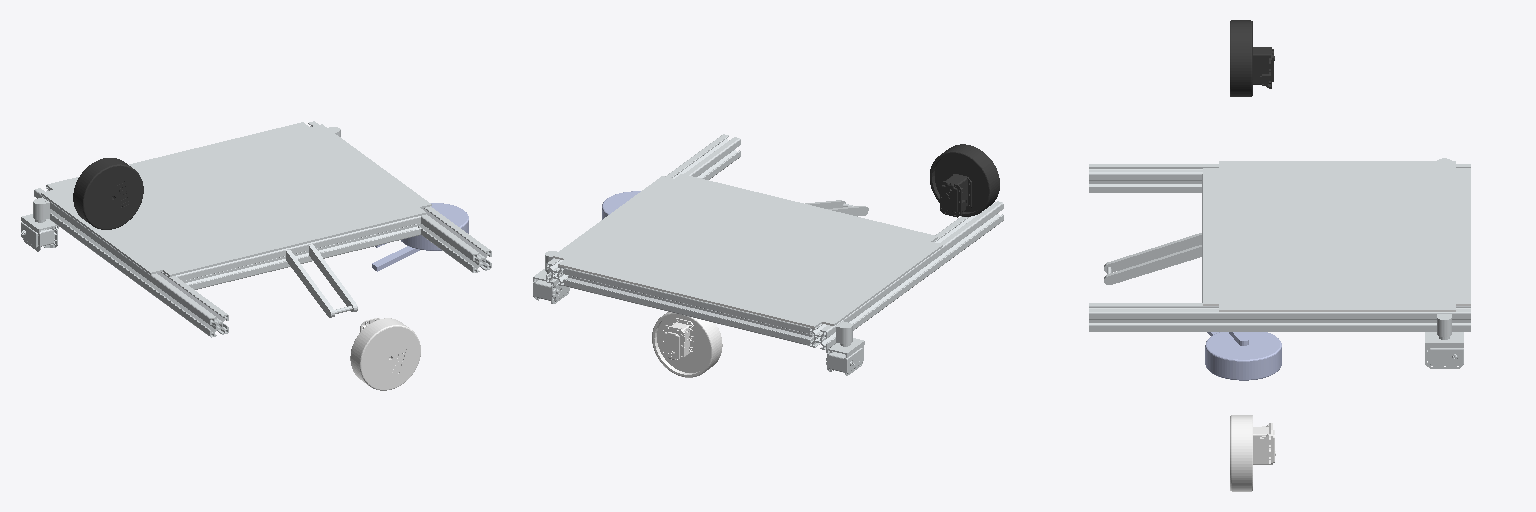
robot.urdf — Twowh:
<?xml version="1.0" encoding="utf-8"?>
<!-- This URDF was automatically created by SolidWorks to URDF Exporter! Originally created by [author] ([email redacted]) 
     Commit Version: 1.5.1-0-g916b5db  Build Version: 1.5.7152.31018
     For more information, please see http://wiki.ros.org/sw_urdf_exporter -->
<robot
  name="Twowh">
  <link
    name="base_link">
    <inertial>
      <origin
        xyz="0.128048360692752 0.343596386681778 0.0901283795092337"
        rpy="0 0 0" />
      <mass
        value="0.573840000000001" />
      <inertia
        ixx="0.00576017238000001"
        ixy="9.82289890103124E-18"
        ixz="-2.17978635019974E-18"
        iyy="0.015701046"
        iyz="-4.58064054923378E-21"
        izz="0.00994173438000003" />
    </inertial>
    <visual>
      <origin
        xyz="0 0 0"
        rpy="0 0 0" />
      <geometry>
        <mesh
          filename="package://Twowh/meshes/base_link.STL" />
      </geometry>
      <material
        name="">
        <color
          rgba="1 1 1 0.3" />
      </material>
    </visual>
    <collision>
      <origin
        xyz="0 0 0"
        rpy="0 0 0" />
      <geometry>
        <mesh
          filename="package://Twowh/meshes/base_link.STL" />
      </geometry>
    </collision>
  </link>
  <link
    name="Body">
    <inertial>
      <origin
        xyz="0.21508 0.00243 -0.2779"
        rpy="0 0 0" />
      <mass
        value="2.263" />
      <inertia
        ixx="0.023609"
        ixy="3.2969E-08"
        ixz="-1.5185E-18"
        iyy="0.042498"
        iyz="1.2741E-05"
        izz="0.01919" />
    </inertial>
    <visual>
      <origin
        xyz="0 0 0"
        rpy="0 0 0" />
      <geometry>
        <mesh
          filename="package://Twowh/meshes/Body.STL" />
      </geometry>
      <material
        name="">
        <color
          rgba="0.89804 0.91765 0.92941 1" />
      </material>
    </visual>
    <collision>
      <origin
        xyz="0 0 0"
        rpy="0 0 0" />
      <geometry>
        <mesh
          filename="package://Twowh/meshes/Body.STL" />
      </geometry>
    </collision>
  </link>
  <joint
    name="Fix"
    type="fixed">
    <origin
      xyz="-0.087202 -0.39013 0.3271"
      rpy="1.5708 0 0" />
    <parent
      link="base_link" />
    <child
      link="Body" />
    <axis
      xyz="0 0 0" />
  </joint>
  <link
    name="Front_wheel">
    <inertial>
      <origin
        xyz="0.022014 0.0019731 0.11577"
        rpy="0 0 0" />
      <mass
        value="0.26479" />
      <inertia
        ixx="0.00034075"
        ixy="5.0752E-08"
        ixz="-2.7225E-08"
        iyy="0.00021306"
        iyz="1.2729E-05"
        izz="0.00018091" />
    </inertial>
    <visual>
      <origin
        xyz="0 0 0"
        rpy="0 0 0" />
      <geometry>
        <mesh
          filename="package://Twowh/meshes/Front_wheel.STL" />
      </geometry>
      <material
        name="">
        <color
          rgba="0.79216 0.81961 0.93333 1" />
      </material>
    </visual>
    <collision>
      <origin
        xyz="0 0 0"
        rpy="0 0 0" />
      <geometry>
        <mesh
          filename="package://Twowh/meshes/Front_wheel.STL" />
      </geometry>
    </collision>
  </link>
  <joint
    name="F_join"
    type="revolute">
    <origin
      xyz="0.10691 -0.26713 0.2906"
      rpy="1.5708 0 0" />
    <parent
      link="base_link" />
    <child
      link="Front_wheel" />
    <axis
      xyz="0 1 0" />
    <limit
      lower="0"
      upper="0"
      effort="0"
      velocity="0" />
  </joint>
  <link
    name="L_wheel">
    <inertial>
      <origin
        xyz="1.24582793650796E-05 0.0113047047114155 -0.0364186400276829"
        rpy="0 0 0" />
      <mass
        value="0.234499143777188" />
      <inertia
        ixx="0.000148295988742398"
        ixy="-6.74096165582027E-09"
        ixz="2.98968224739169E-08"
        iyy="0.000143655369595773"
        iyz="1.49218895971985E-07"
        izz="0.000262556797814612" />
    </inertial>
    <visual>
      <origin
        xyz="0 0 0"
        rpy="0 0 0" />
      <geometry>
        <mesh
          filename="package://Twowh/meshes/L_wheel.STL" />
      </geometry>
      <material
        name="">
        <color
          rgba="0.298039215686275 0.298039215686275 0.298039215686275 1" />
      </material>
    </visual>
    <collision>
      <origin
        xyz="0 0 0"
        rpy="0 0 0" />
      <geometry>
        <mesh
          filename="package://Twowh/meshes/L_wheel.STL" />
      </geometry>
    </collision>
  </link>
  <joint
    name="L_joint"
    type="revolute">
    <origin
      xyz="-0.099202 0.050172 0.2903"
      rpy="0 1.5708 0" />
    <parent
      link="base_link" />
    <child
      link="L_wheel" />
    <axis
      xyz="0 1 0" />
    <limit
      lower="0"
      upper="0"
      effort="0"
      velocity="0" />
  </joint>
  <link
    name="R_wheel">
    <inertial>
      <origin
        xyz="0 0 0"
        rpy="0 0 0" />
      <mass
        value="0" />
      <inertia
        ixx="0"
        ixy="0"
        ixz="0"
        iyy="0"
        iyz="0"
        izz="0" />
    </inertial>
    <visual>
      <origin
        xyz="0 0 0"
        rpy="0 0 0" />
      <geometry>
        <mesh
          filename="package://Twowh/meshes/R_wheel.STL" />
      </geometry>
      <material
        name="">
        <color
          rgba="1 1 1 1" />
      </material>
    </visual>
    <collision>
      <origin
        xyz="0 0 0"
        rpy="0 0 0" />
      <geometry>
        <mesh
          filename="package://Twowh/meshes/R_wheel.STL" />
      </geometry>
    </collision>
  </link>
  <joint
    name="R_joint"
    type="revolute">
    <origin
      xyz="0.3548 0.050172 0.2903"
      rpy="3.1416 -1.5708 0" />
    <parent
      link="base_link" />
    <child
      link="R_wheel" />
    <axis
      xyz="0 1 0" />
    <limit
      lower="0"
      upper="0"
      effort="0"
      velocity="0" />
  </joint>
</robot>

--- Render facts (derived) ---
3 views of the same robot in one strip: view 1: azimuth 30°, elevation 25°; view 2: azimuth 150°, elevation 25°; view 3: azimuth 270°, elevation 25° (orthographic).
Robot: Twowh — 5 links, 4 joints (3 revolute, 1 fixed); root link base_link; default pose: all joints at 0.
Links seen in each view (by area): view 1: Body, R_wheel, L_wheel, Front_wheel; view 2: Body, L_wheel, R_wheel, base_link; view 3: Body, Front_wheel, R_wheel, L_wheel, base_link.
Link boxes in pixels (left/top/right/bottom): Body: left=21, top=121, right=491, bottom=337; R_wheel: left=350, top=318, right=420, bottom=390; L_wheel: left=73, top=158, right=143, bottom=229; Front_wheel: left=372, top=203, right=468, bottom=271; Body: left=533, top=134, right=1003, bottom=375; L_wheel: left=930, top=144, right=999, bottom=217; R_wheel: left=652, top=312, right=722, bottom=377; base_link: left=553, top=256, right=833, bottom=328; Body: left=1089, top=158, right=1470, bottom=368; Front_wheel: left=1205, top=332, right=1281, bottom=380; R_wheel: left=1230, top=415, right=1275, bottom=491; L_wheel: left=1230, top=20, right=1274, bottom=96; base_link: left=1203, top=304, right=1470, bottom=311.
Bounding box of the posed robot: 0.6343 × 0.5 × 0.4572 m (x, y, z).
5 mesh visuals loaded from 5 distinct referenced files (5 binary STL).